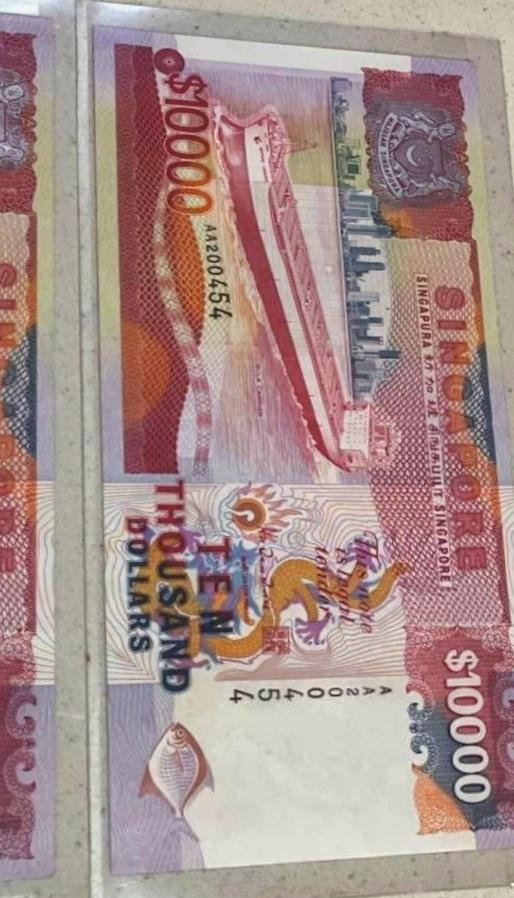10000SingaporeDollar: (106, 42, 514, 842)
